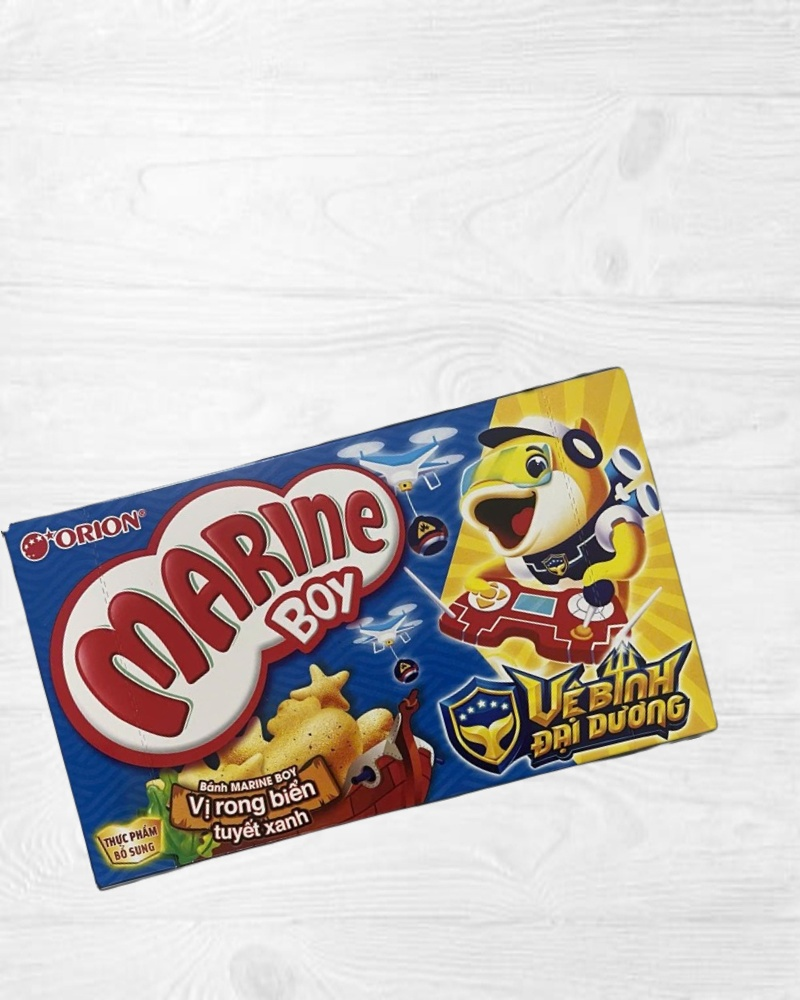Marine: (3, 360, 723, 896)
